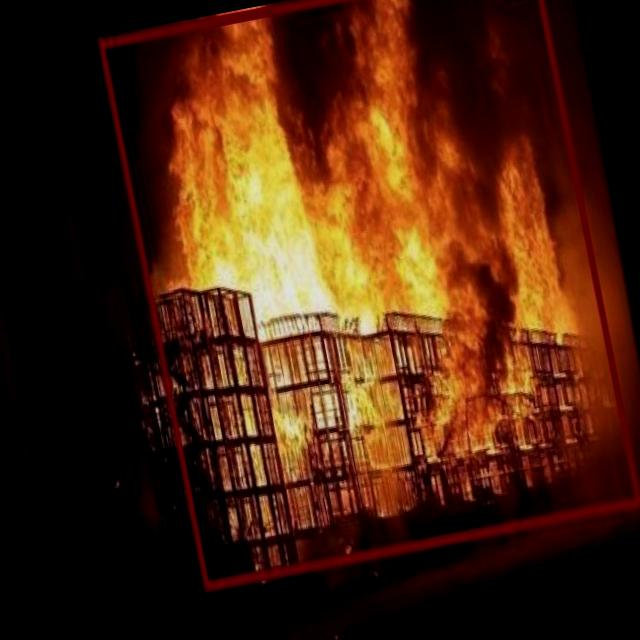fire: (99, 0, 640, 588)
